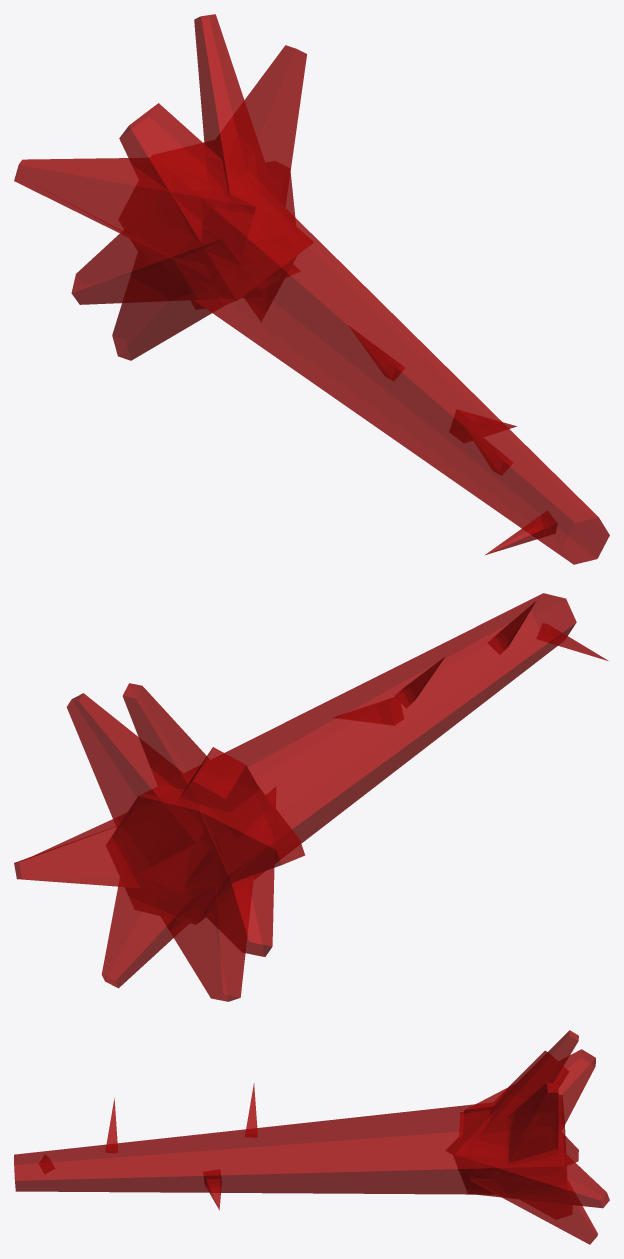
Rendered from SM_Prop_Swamp_Log_07_Collision.fbx.
3 renders of one model, top to bottom at view 1: azimuth 30°, elevation 25°; view 2: azimuth 150°, elevation 25°; view 3: azimuth 270°, elevation 25°, orthographic. The views are drawn at different scales.
Visible parts, largest first — view 1: SM_Prop_Swamp_Log_07_Collision; view 2: SM_Prop_Swamp_Log_07_Collision; view 3: SM_Prop_Swamp_Log_07_Collision.
Boxes of the visible parts, box(x1,y1,x2,y2) form: SM_Prop_Swamp_Log_07_Collision: box(14, 14, 609, 564); SM_Prop_Swamp_Log_07_Collision: box(14, 593, 608, 1001); SM_Prop_Swamp_Log_07_Collision: box(14, 1030, 609, 1244).
Bounding box in the file's own units: 575 × 602 × 1503.
